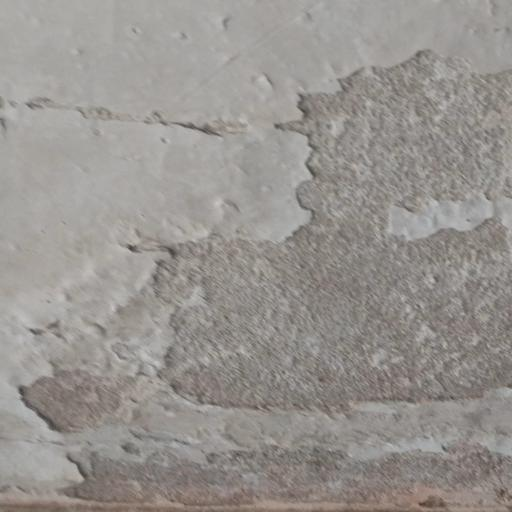peeling: (12, 41, 512, 511)
